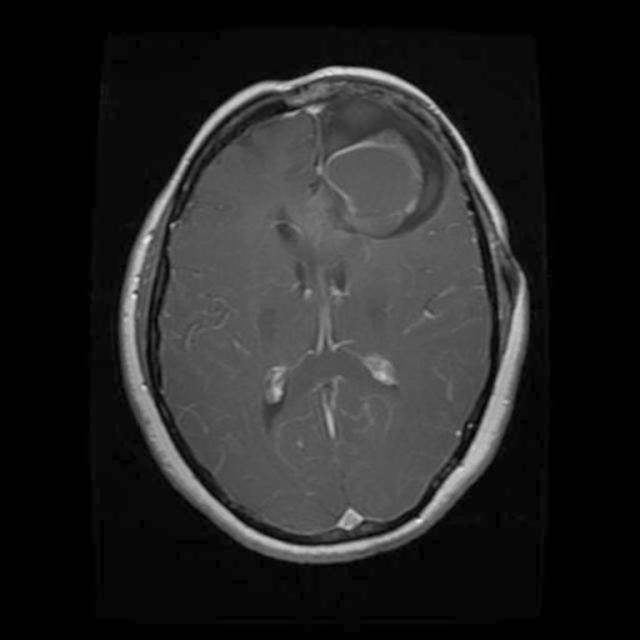pituitary tumor: (325, 99, 445, 234)
